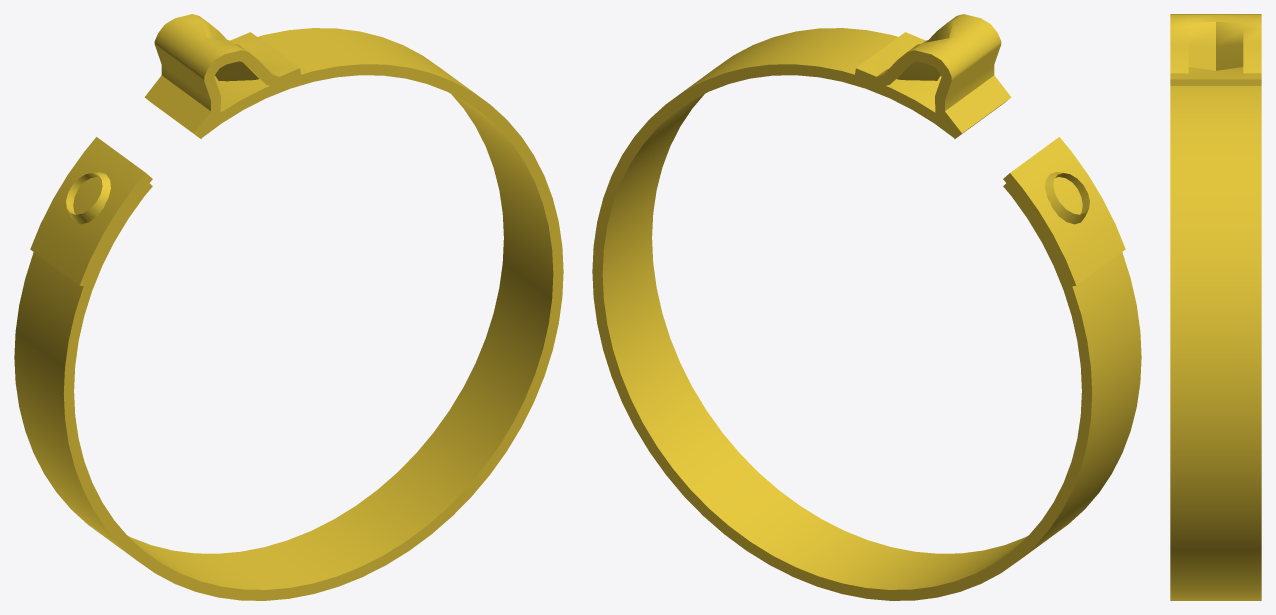
3 views of the same model, side by side, from view 1: azimuth 30°, elevation 25°; view 2: azimuth 150°, elevation 25°; view 3: azimuth 270°, elevation 25° (orthographic). The views are drawn at different scales.
Parts seen in each view (by area): view 1: 680; view 2: 680; view 3: 680.
Boxes of the visible parts, x1,y1,x2,y2 form: 680: (14, 14, 563, 600); 680: (592, 14, 1141, 600); 680: (1170, 14, 1261, 600).
Bounding box in the file's own units: 1460 × 1567 × 250.
